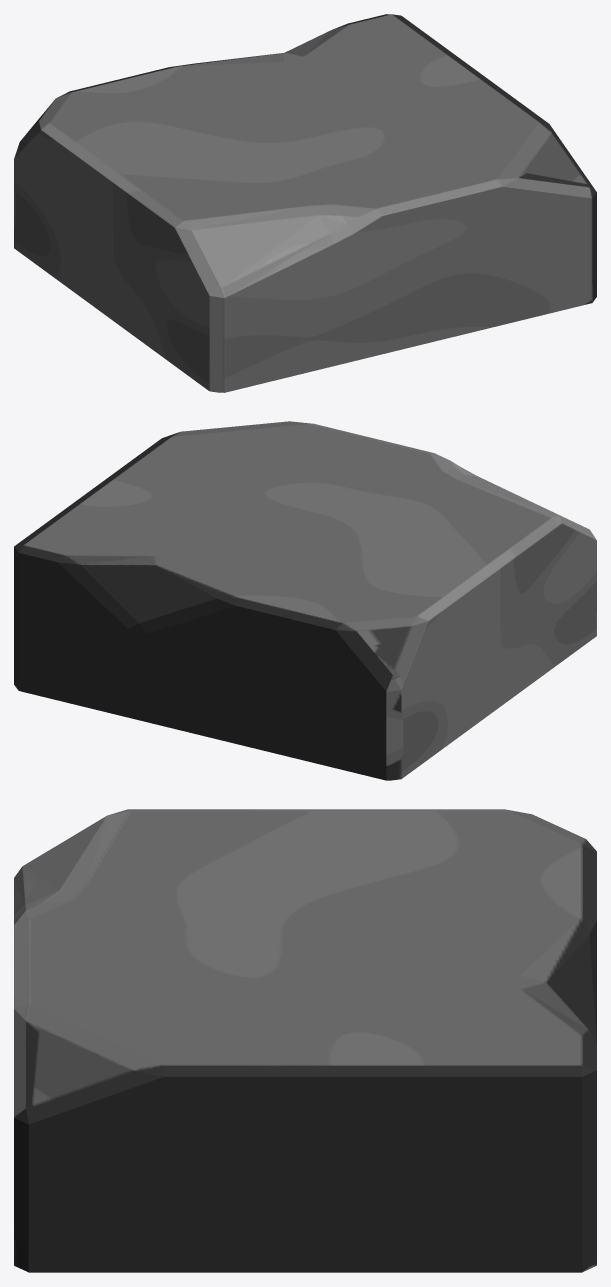
Rendered from tas.fbx.
3 views of the same model, one above another, from view 1: azimuth 30°, elevation 25°; view 2: azimuth 150°, elevation 25°; view 3: azimuth 270°, elevation 25° (orthographic). The views are drawn at different scales.
Visible parts, largest first — view 1: Cube.052; view 2: Cube.052; view 3: Cube.052.
Boxes of the visible parts, x1=… form: Cube.052: x1=14, y1=14, x2=596, y2=392; Cube.052: x1=14, y1=421, x2=596, y2=780; Cube.052: x1=14, y1=809, x2=596, y2=1272.
Bounding box in the file's own units: 1.72 × 0.6162 × 1.58.
1 material, 1 textured.
